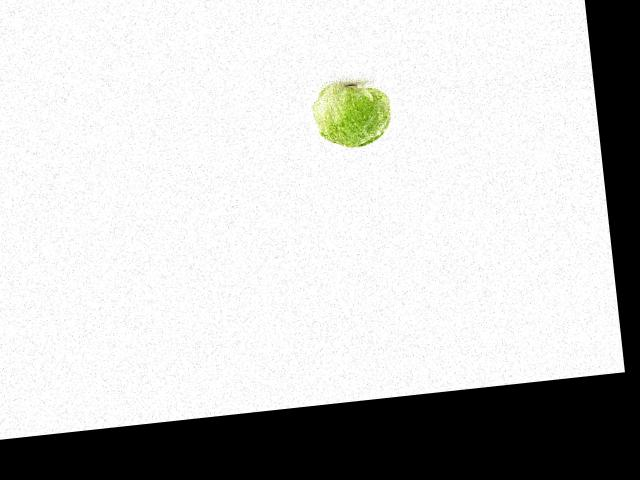lettuce: (309, 81, 404, 153)
